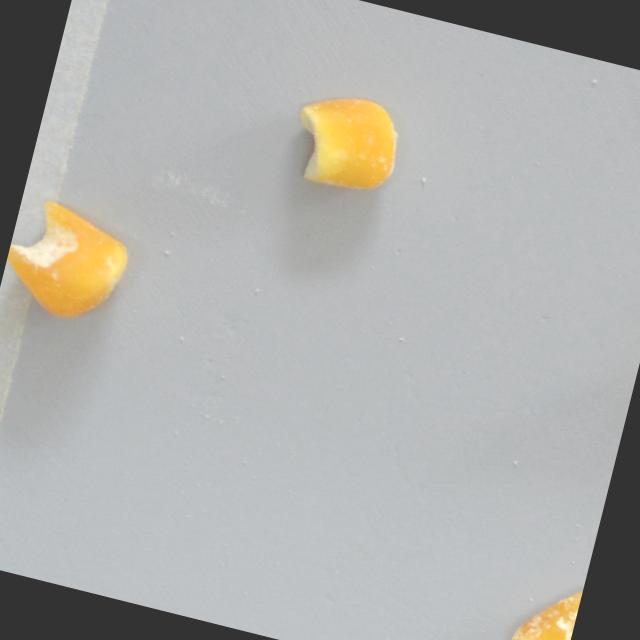pelicula: (0, 194, 138, 331), (282, 84, 411, 203), (509, 577, 582, 640)
